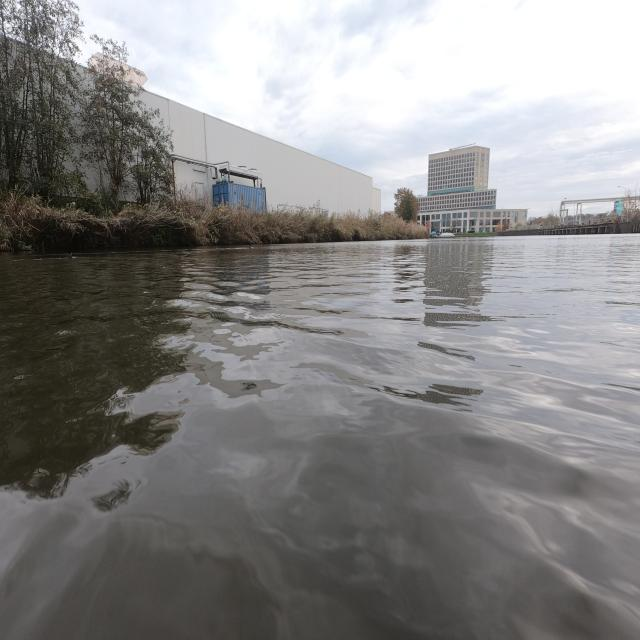reed: (2, 192, 428, 244)
sky: (74, 2, 638, 214)
water: (0, 236, 640, 640)
